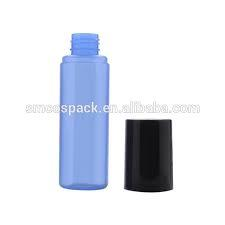Container for household chemicals: (46, 29, 116, 195)
Unknown plastic: (121, 107, 184, 204)
